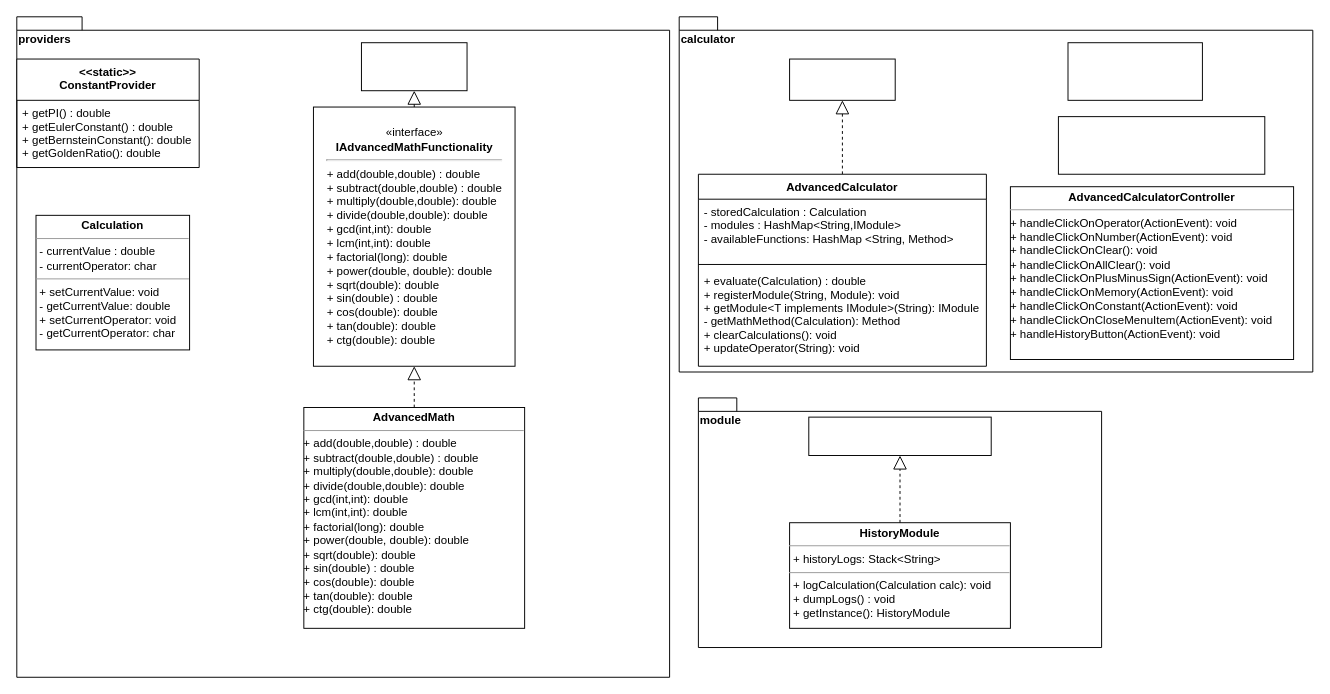
This 1330x694 diagram has some shape labels left out. Here are the shapes that lost their labels. From the top down, the centre of each, then its label:
(x=413, y=66): «interface» IMath
(x=842, y=79): «interface» ICalculator<T>
(x=1134, y=71): Main + main(String[]) : void
(x=1161, y=145): AdvancedCalculatorApplication + start(Stage): void
(x=899, y=436): <<Interface>> IModule
